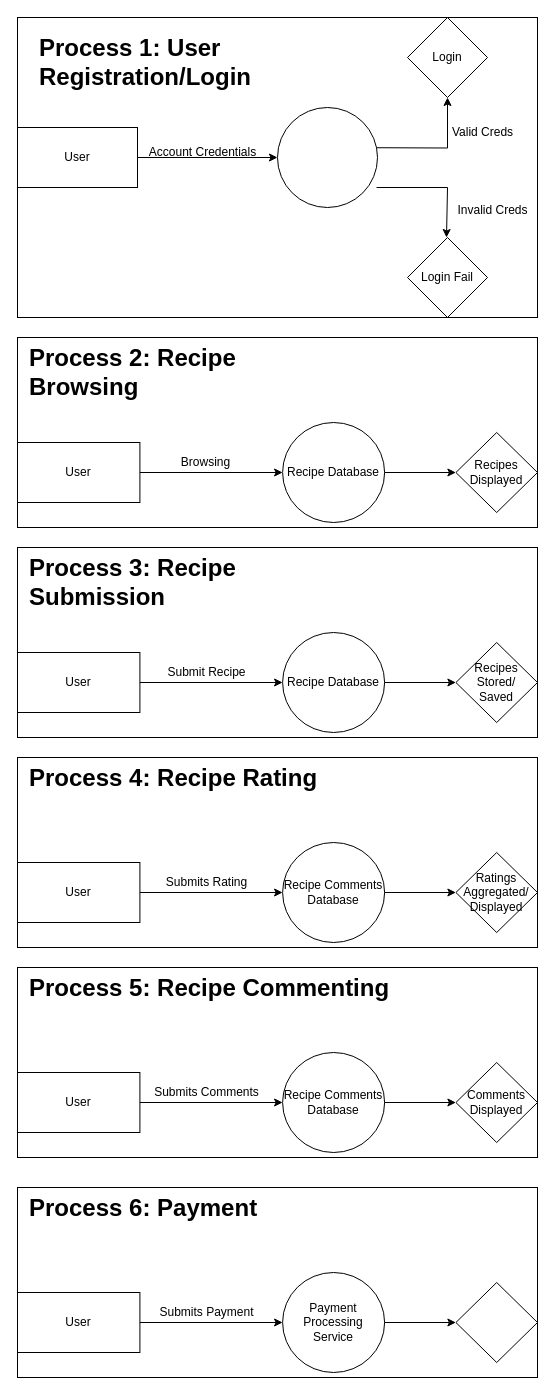
This 555x1395 diagram has some shape labels left out. Here are the shapes that lost their labels. From the top down, the centre of each, then its label:
At pixel 327 157: "Registration and Authentication (User credentials DB)".
At pixel 496 1322: "Payment Received".
